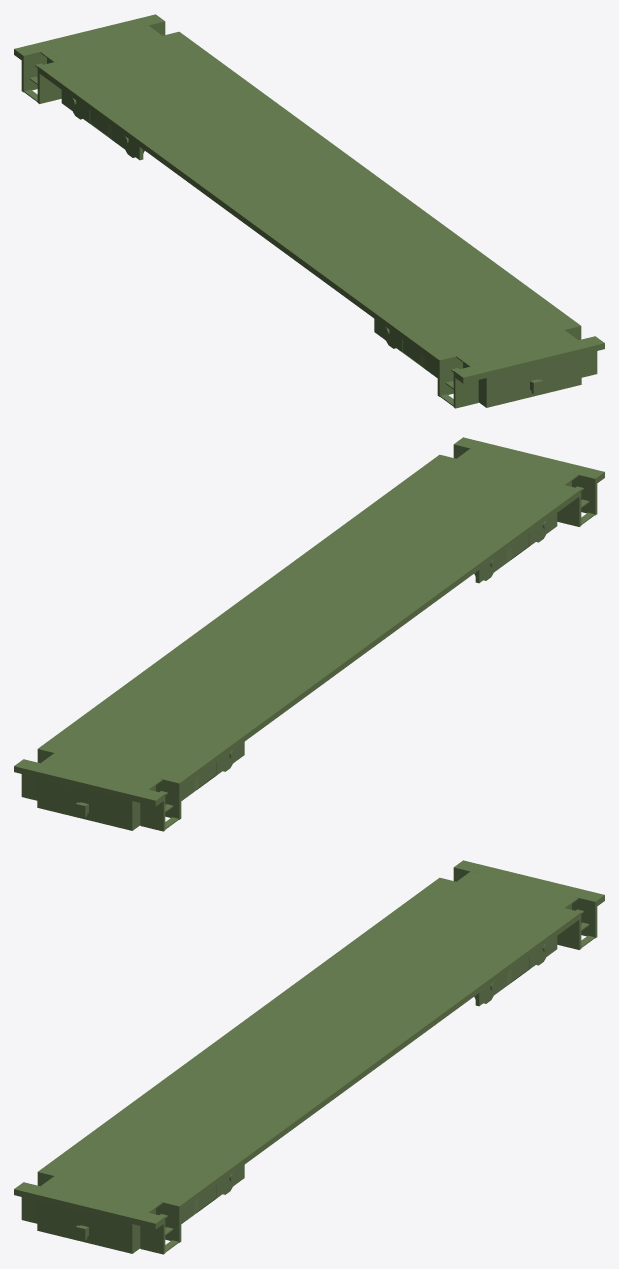
File: Train_05.fbx
3 renders of one model, top to bottom at view 1: azimuth 30°, elevation 25°; view 2: azimuth 150°, elevation 25°; view 3: azimuth 330°, elevation 25°, orthographic.
Parts seen in each view (by area): view 1: Train_05; view 2: Train_05; view 3: Train_05.
Boxes of the visible parts, bbox=[...] form: Train_05: bbox=[14, 14, 604, 408]; Train_05: bbox=[14, 437, 604, 831]; Train_05: bbox=[14, 860, 604, 1254].
Size of the model in its own units: 3.5 by 1.03 by 19.58.
